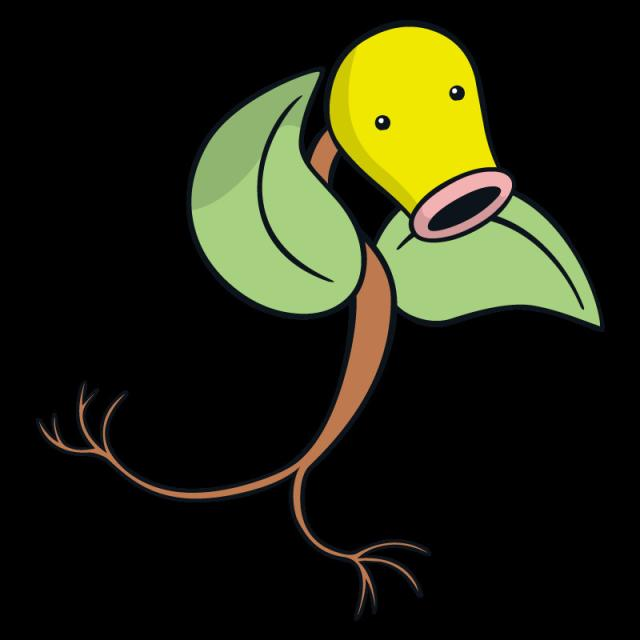Bellsprout: (242, 21, 541, 526)
